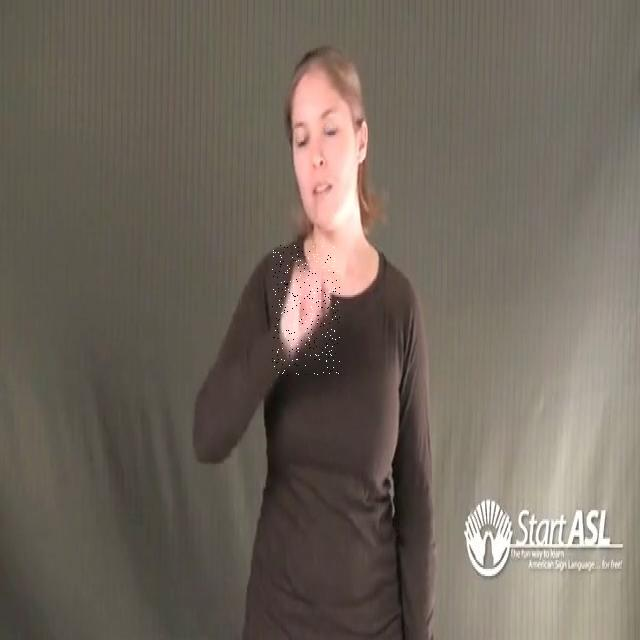icecream: (272, 245, 340, 376)
